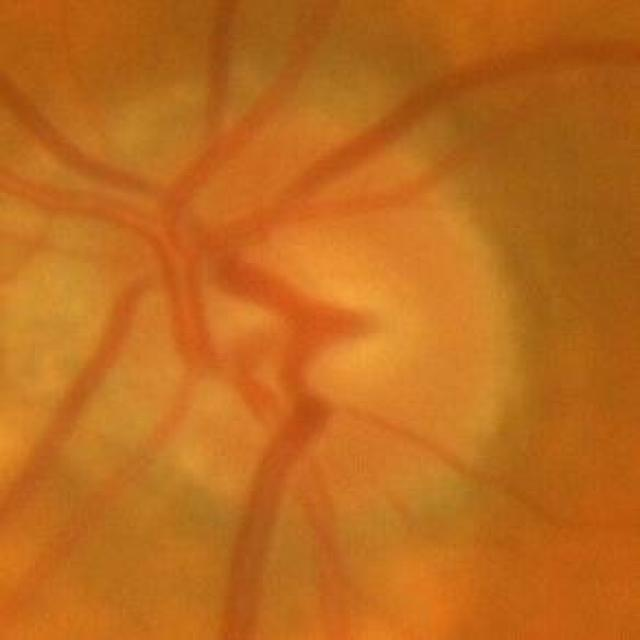OC: (200, 231, 414, 387)
OD: (88, 124, 516, 513)
